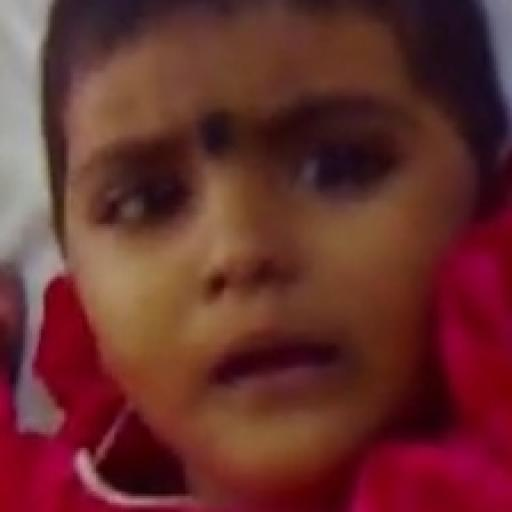Autism: (56, 19, 461, 484)
